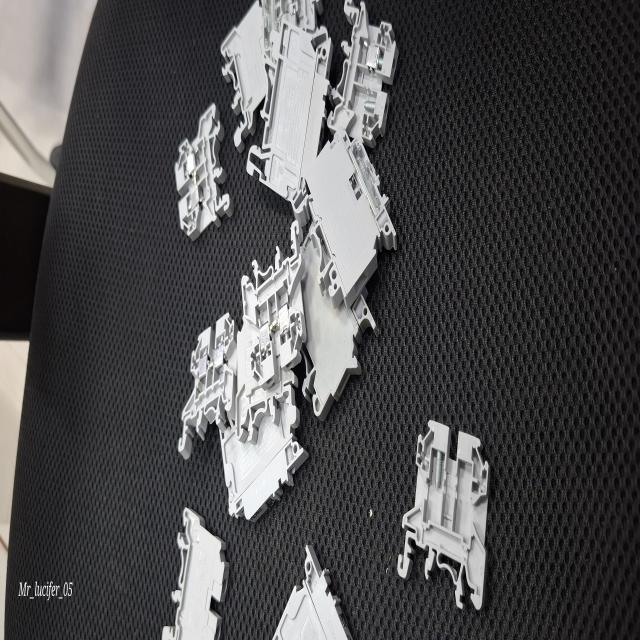Inverted: (153, 492, 236, 638)
Pass: (240, 220, 305, 396), (170, 312, 238, 464), (169, 97, 235, 251)
Reject: (393, 417, 490, 613), (328, 0, 410, 140)
